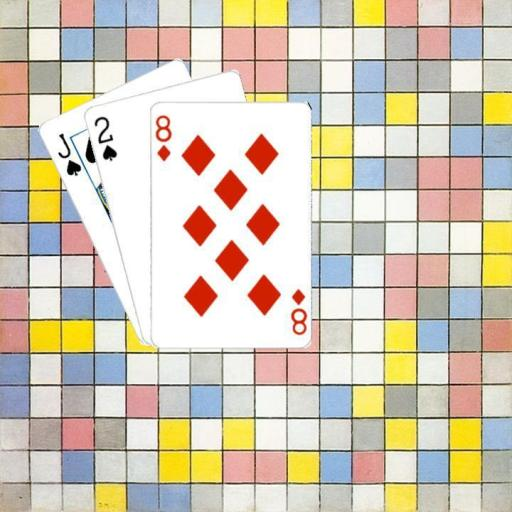card-corner: (54, 129, 83, 178), (90, 112, 118, 162), (152, 112, 173, 162), (286, 286, 306, 336)
